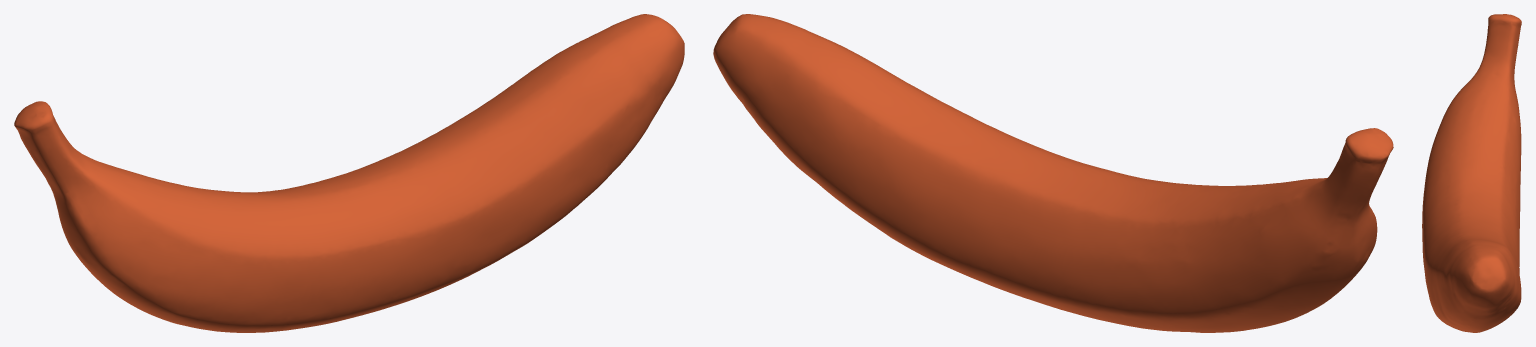
3 renders of one model, left to right at view 1: azimuth 30°, elevation 25°; view 2: azimuth 150°, elevation 25°; view 3: azimuth 270°, elevation 25°, orthographic. The views are drawn at different scales.
Size of the model in its own units: 0.1967 by 0.0746 by 0.0367.
